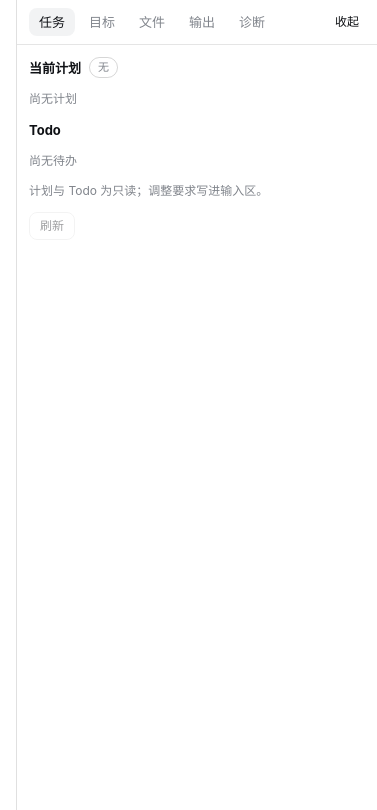
Test: detail panel › does not offer recovery or live controls for a completed goal
The image size is (377, 810).
Click the tab "目标": (102, 22) [79,8,125,36]
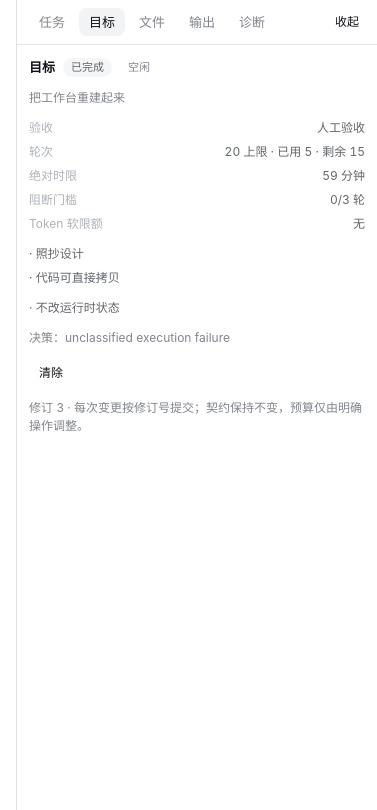
Check: the text "把工作台重建起来" is shown, box [29,90,125,105]
Check: the button "清除" is shown, box [29,359,73,387]
